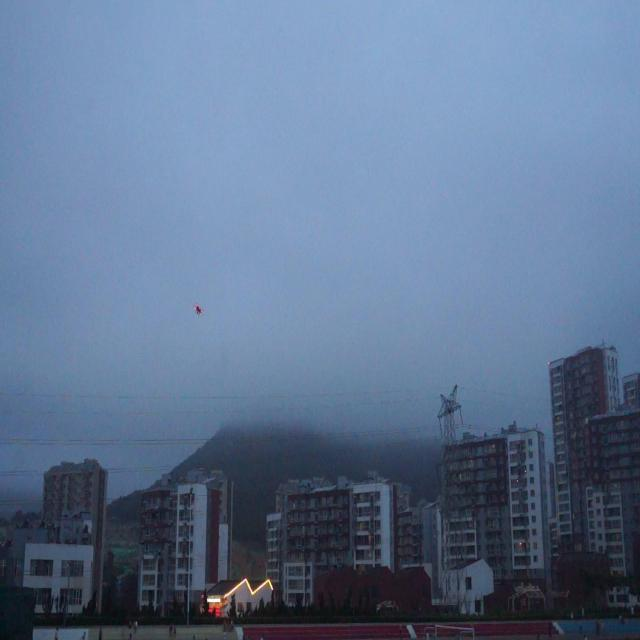drone: (194, 302, 205, 318)
